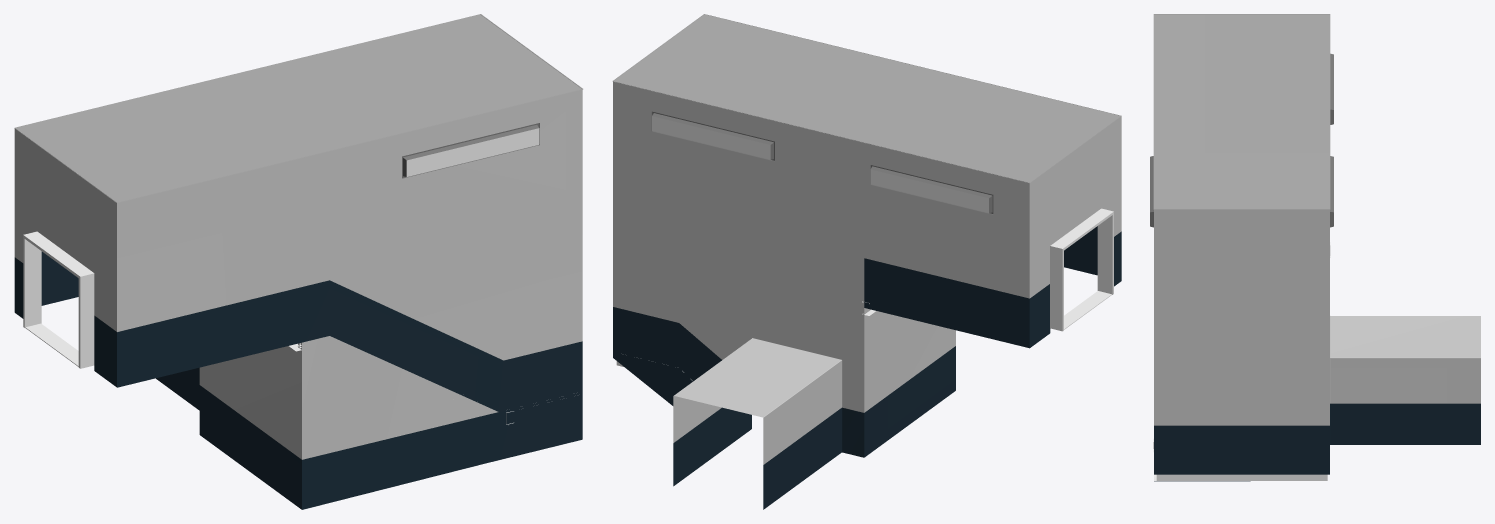
Rendered from SM_H_Building_Tide_Corridor_01_ATLAS.fbx.
The picture shows the model from 3 angles, left to right: view 1: azimuth 30°, elevation 25°; view 2: azimuth 150°, elevation 25°; view 3: azimuth 270°, elevation 25°; orthographic projection. The views are drawn at different scales.
Parts seen in each view (by area): view 1: SM_H_Building_Tide_Corridor_01_ATLAS; view 2: SM_H_Building_Tide_Corridor_01_ATLAS; view 3: SM_H_Building_Tide_Corridor_01_ATLAS.
Part boxes in pixels (x1,y1,x2,y2): SM_H_Building_Tide_Corridor_01_ATLAS: (14, 14, 583, 509); SM_H_Building_Tide_Corridor_01_ATLAS: (612, 14, 1121, 509); SM_H_Building_Tide_Corridor_01_ATLAS: (1150, 14, 1480, 481).
Size of the model in its own units: 1397 by 970 by 988.
